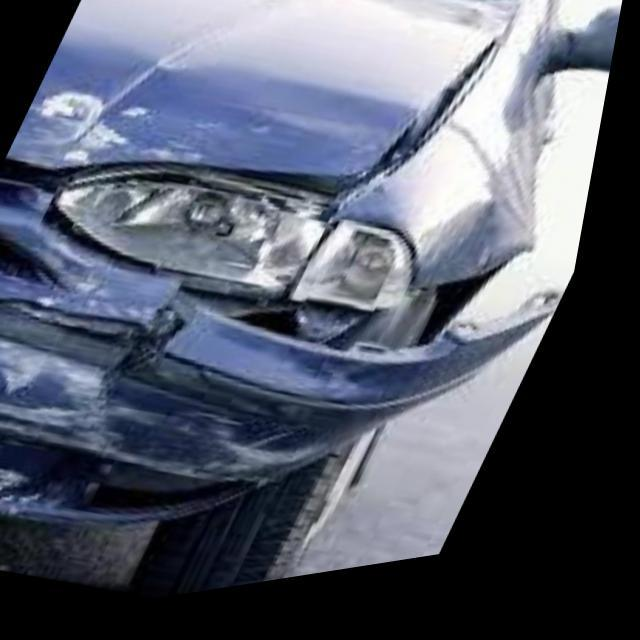dislocated part: (0, 90, 582, 554)
